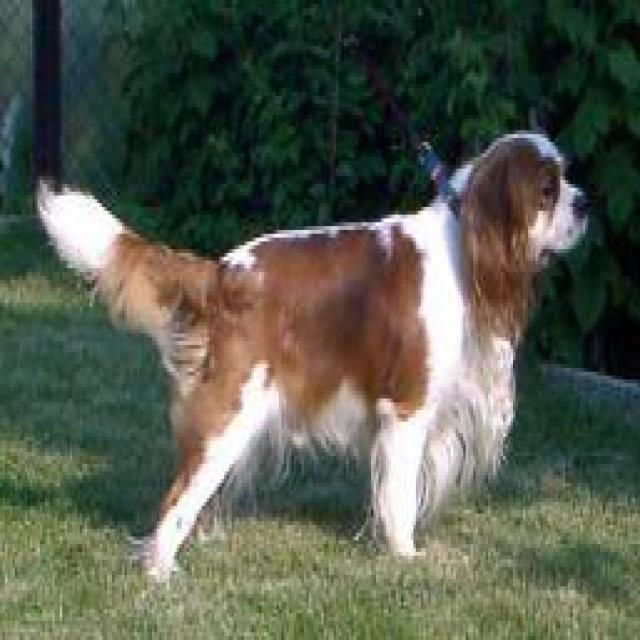blenheim_spaniel: (45, 130, 590, 582)
